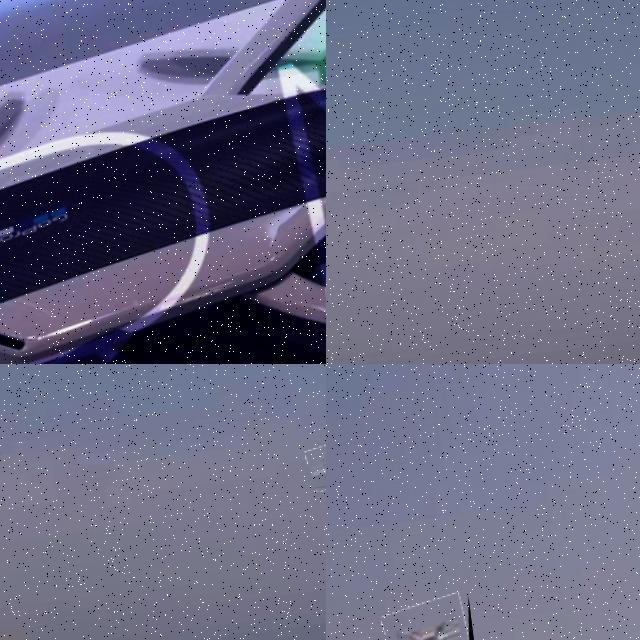0: (381, 594, 476, 640), (304, 427, 326, 488)
drone: (0, 0, 326, 364)
